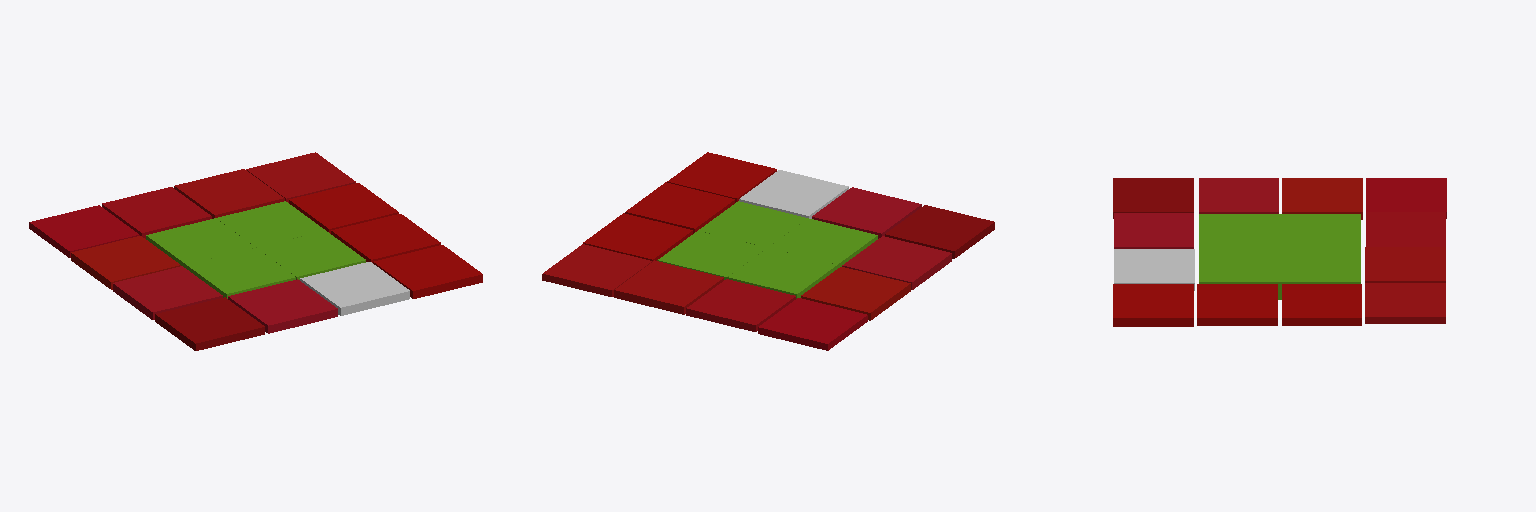
The model's file is groundfinal.obj.
3 renders of one model, left to right at view 1: azimuth 30°, elevation 25°; view 2: azimuth 150°, elevation 25°; view 3: azimuth 270°, elevation 25°, orthographic.
Parts seen in each view (by area): view 1: Tile13, Tile4, Tile3, Tile2, Tile1, Tile6, Tile8, Tile12, Tile10, Tile11, Tile5, Tile7 (+1 smaller); view 2: Tile13, Tile12, Tile10, Tile11, Tile9, Tile8, Tile4, Tile6, Tile3, Tile5, Tile2, Tile7 (+1 smaller); view 3: Tile13, Tile1, Tile5, Tile7, Tile9, Tile8, Tile10, Tile3, Tile6, Tile2, Tile4, Tile11 (+1 smaller).
Boxes of the visible parts, box(x1,y1,x2,y2) form: Tile13: box(146, 201, 365, 298); Tile4: box(155, 297, 264, 350); Tile3: box(228, 279, 337, 333); Tile2: box(300, 262, 409, 315); Tile1: box(373, 245, 482, 298); Tile6: box(113, 266, 222, 319); Tile8: box(71, 236, 180, 289); Tile12: box(29, 205, 139, 257); Tile10: box(174, 169, 284, 218); Tile11: box(102, 187, 211, 238); Tile5: box(331, 214, 440, 262); Tile7: box(289, 183, 398, 233); Tile13: box(657, 201, 877, 298); Tile12: box(758, 298, 867, 350); Tile10: box(614, 260, 723, 314); Tile11: box(686, 279, 795, 331); Tile9: box(542, 244, 652, 296); Tile8: box(801, 267, 910, 320); Tile4: box(885, 205, 994, 258); Tile6: box(842, 236, 951, 289); Tile3: box(812, 187, 921, 238); Tile5: box(625, 182, 734, 233); Tile2: box(739, 170, 848, 218); Tile7: box(583, 213, 692, 260); Tile13: box(1199, 214, 1360, 299); Tile1: box(1113, 284, 1193, 326); Tile5: box(1197, 284, 1277, 325); Tile7: box(1282, 284, 1361, 325); Tile9: box(1365, 283, 1445, 323); Tile8: box(1282, 178, 1362, 219); Tile10: box(1365, 247, 1445, 282); Tile3: box(1114, 213, 1193, 248); Tile6: box(1199, 178, 1278, 213); Tile2: box(1114, 249, 1194, 290); Tile4: box(1113, 178, 1193, 218); Tile11: box(1366, 212, 1445, 246).
Size of the model in its own units: 27.56 by 1.71 by 27.68.